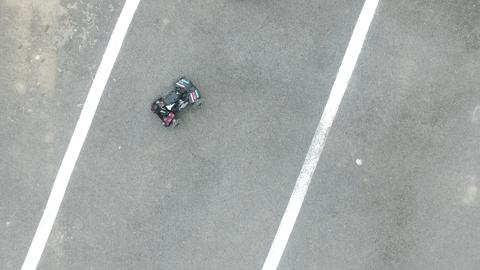chariot: (150, 74, 206, 132)
